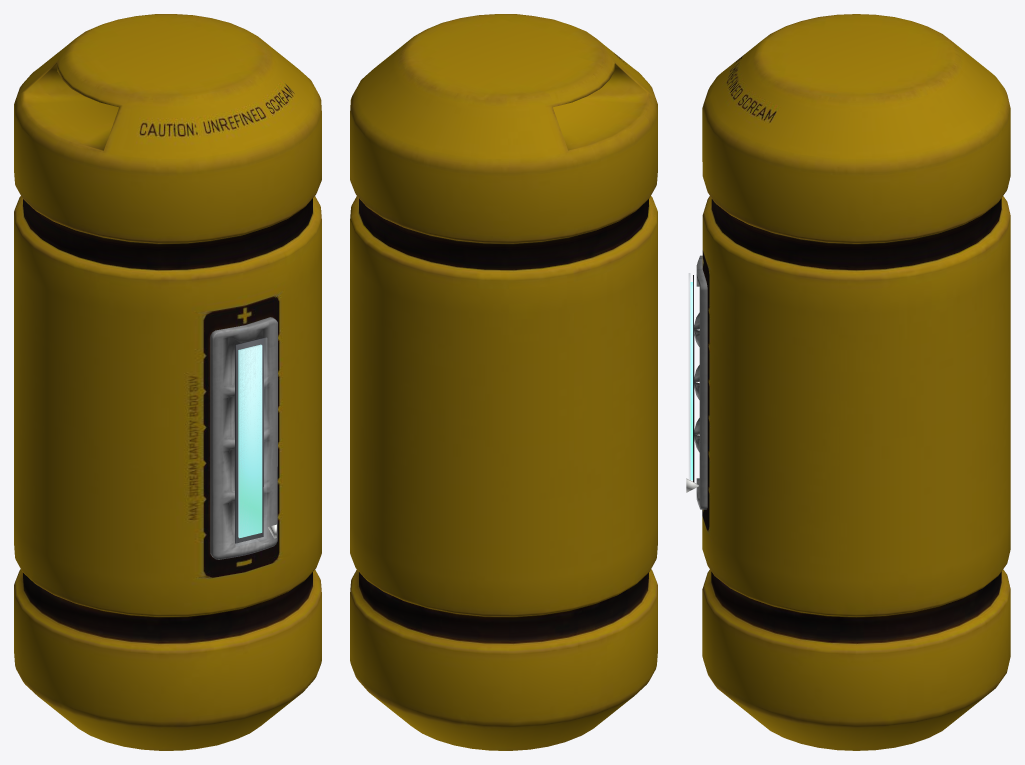
Rendered from gauge_canister_001_meshopt.glb.
3 renders of one model, left to right at view 1: azimuth 30°, elevation 25°; view 2: azimuth 150°, elevation 25°; view 3: azimuth 270°, elevation 25°, orthographic.
Parts seen in each view (by area): view 1: cuerpo, tapa, placa, cristal, indicador, fondo; view 2: cuerpo, tapa; view 3: cuerpo, tapa, placa, indicador.
Part boxes in pixels (<box>): cuerpo: <box>14,196,321,750</box>; tapa: <box>14,14,321,270</box>; placa: <box>210,317,277,559</box>; cristal: <box>236,337,266,546</box>; indicador: <box>238,344,262,537</box>; fondo: <box>235,338,263,543</box>; cuerpo: <box>350,196,657,750</box>; tapa: <box>350,14,657,270</box>; cuerpo: <box>702,196,1010,750</box>; tapa: <box>702,14,1010,270</box>; placa: <box>694,255,707,509</box>; indicador: <box>690,282,692,480</box>.
Bounding box in the file's own units: 2 × 4.69 × 2.1.
Materials: 5 (1 with a texture image).
